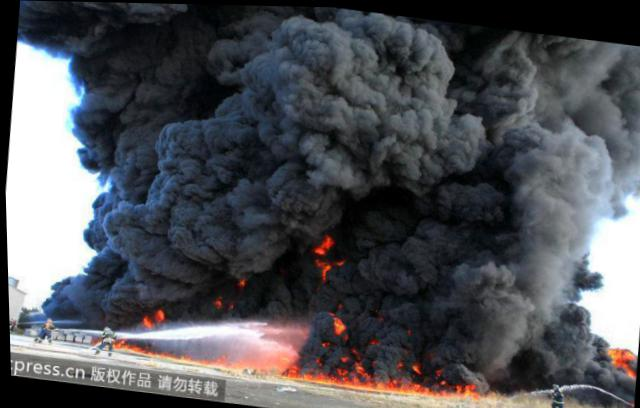fire: (280, 366, 430, 397), (125, 345, 220, 366), (602, 345, 635, 372), (444, 380, 477, 397), (311, 231, 333, 252), (309, 255, 327, 277), (326, 315, 345, 334), (349, 357, 368, 375), (150, 308, 163, 323), (110, 338, 125, 348), (137, 315, 148, 327)
